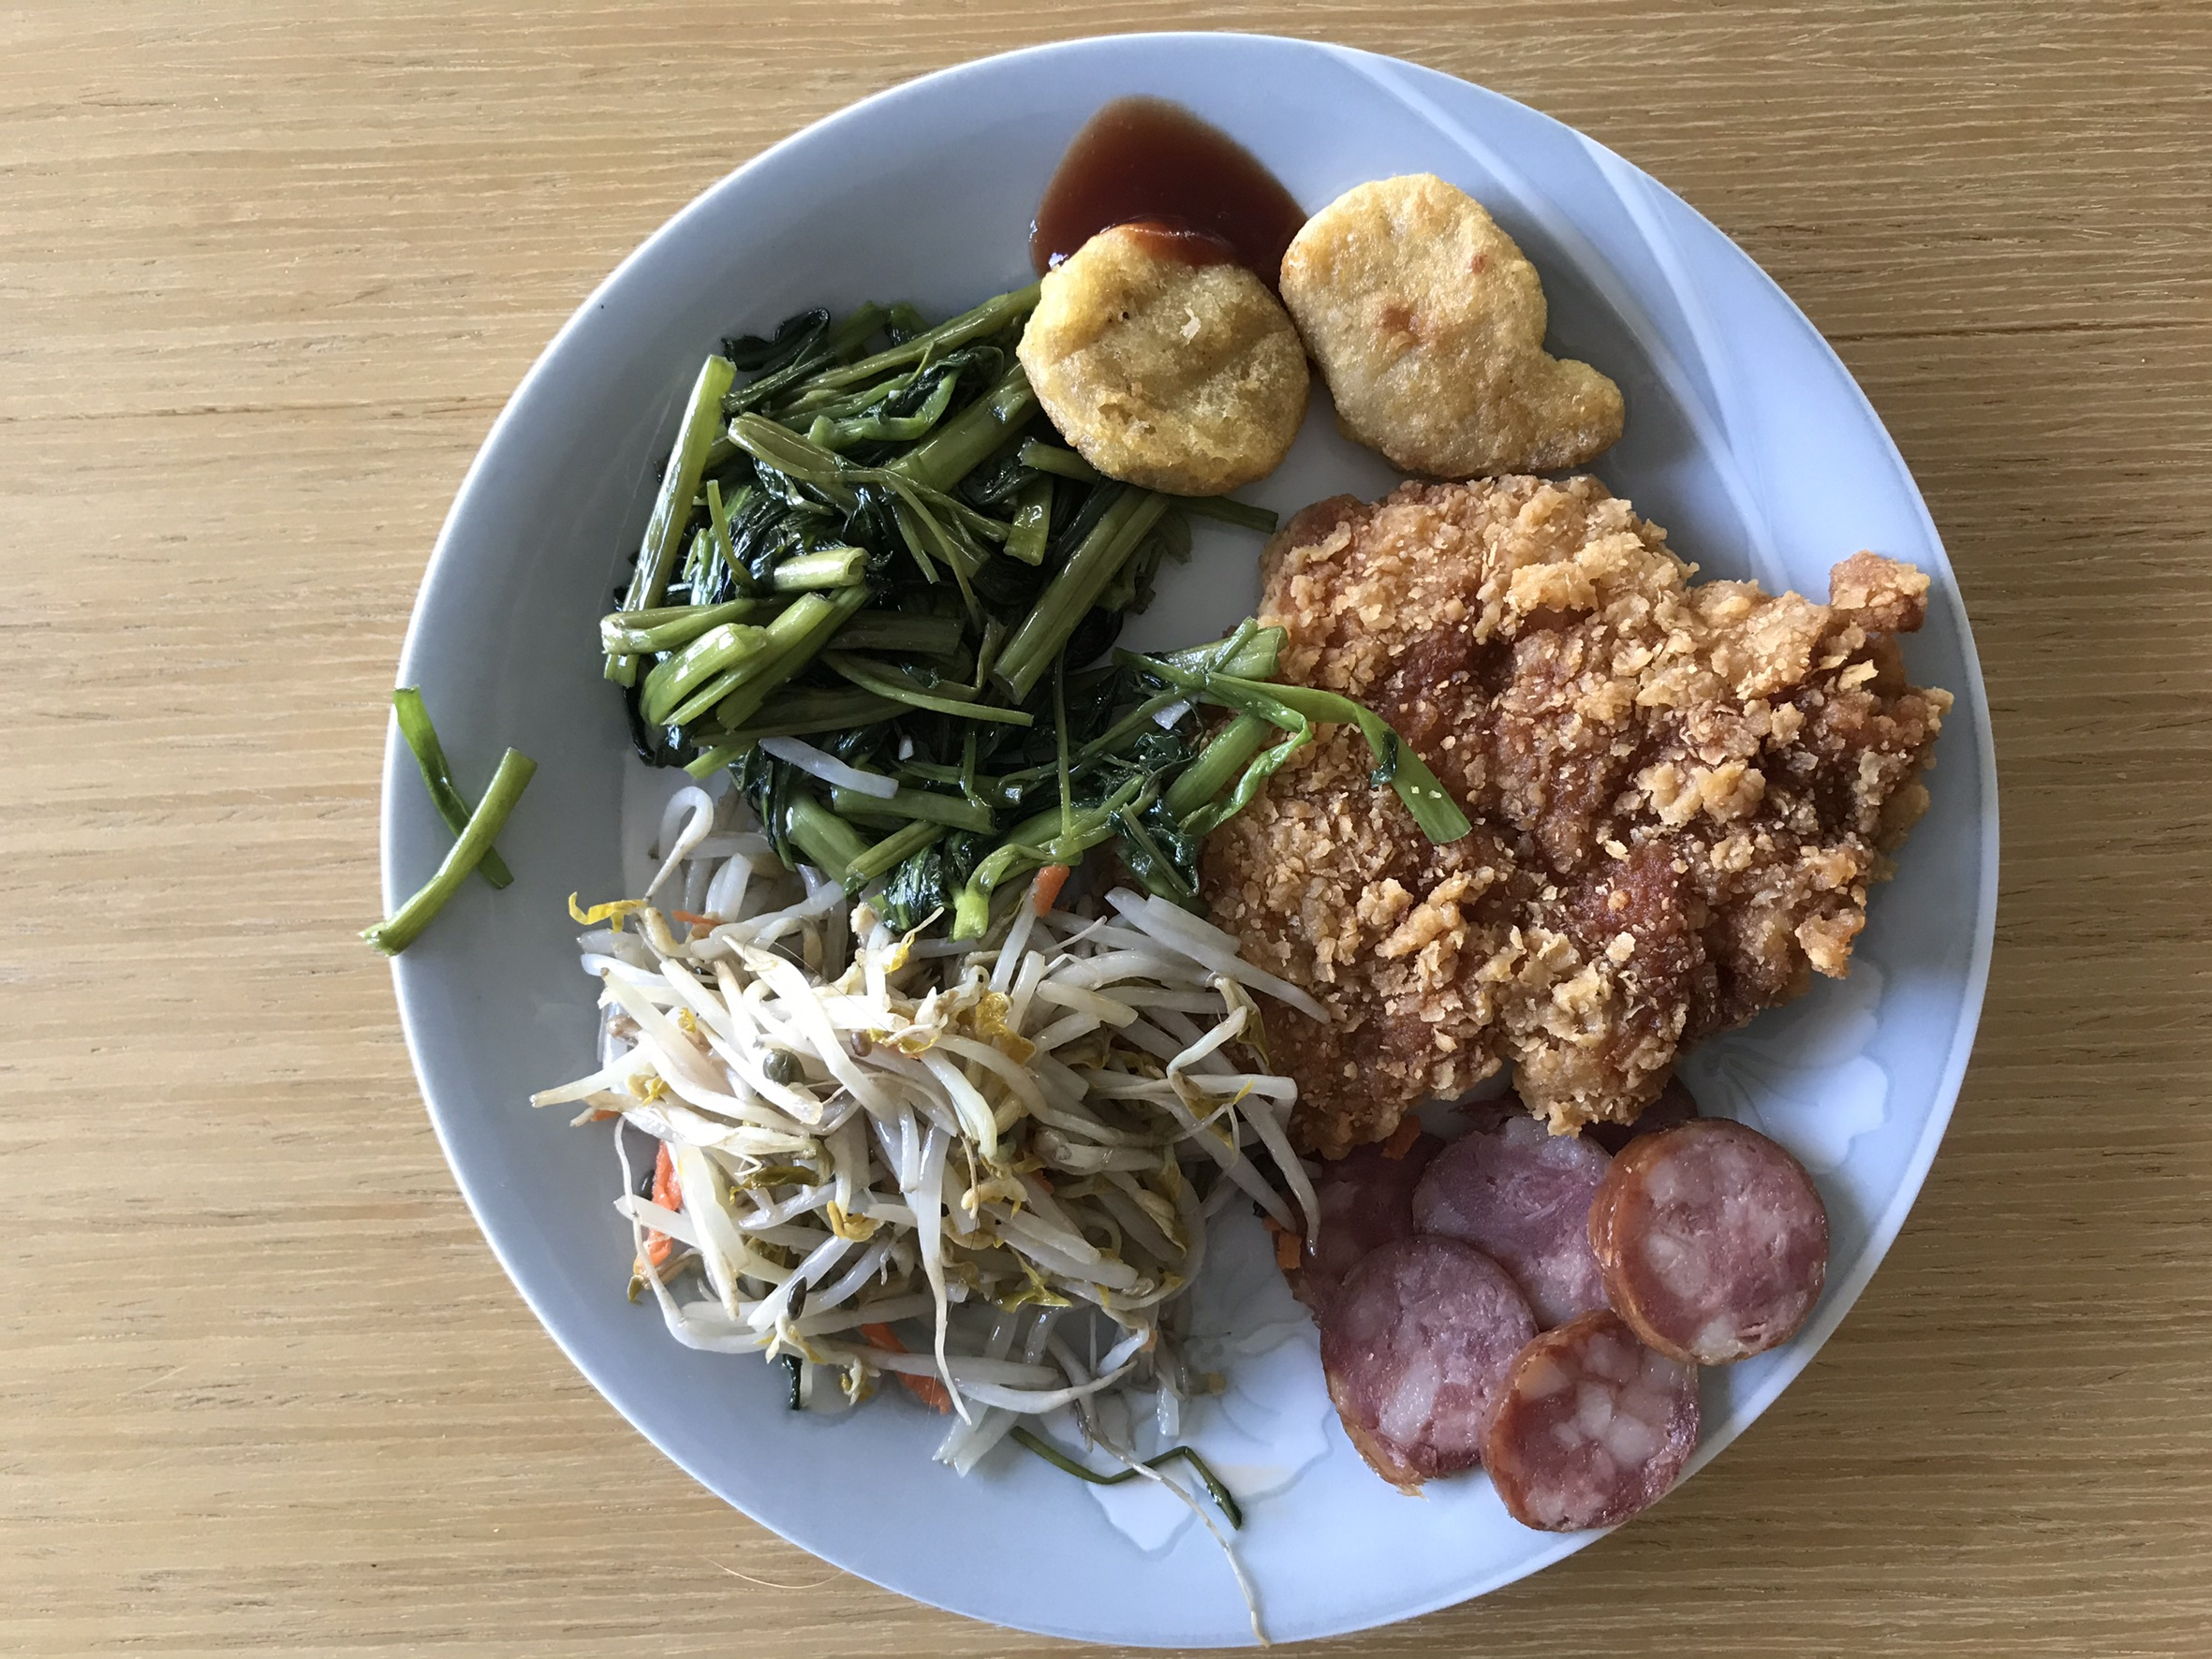chicken_nuggets: (1023, 176, 1621, 493)
chinese_sausage: (1269, 1115, 1830, 1535)
fried_chicken: (1210, 476, 1952, 1157)
mung_bean_sprouts: (572, 901, 1252, 1422)
water_spinach: (601, 308, 1204, 901)
